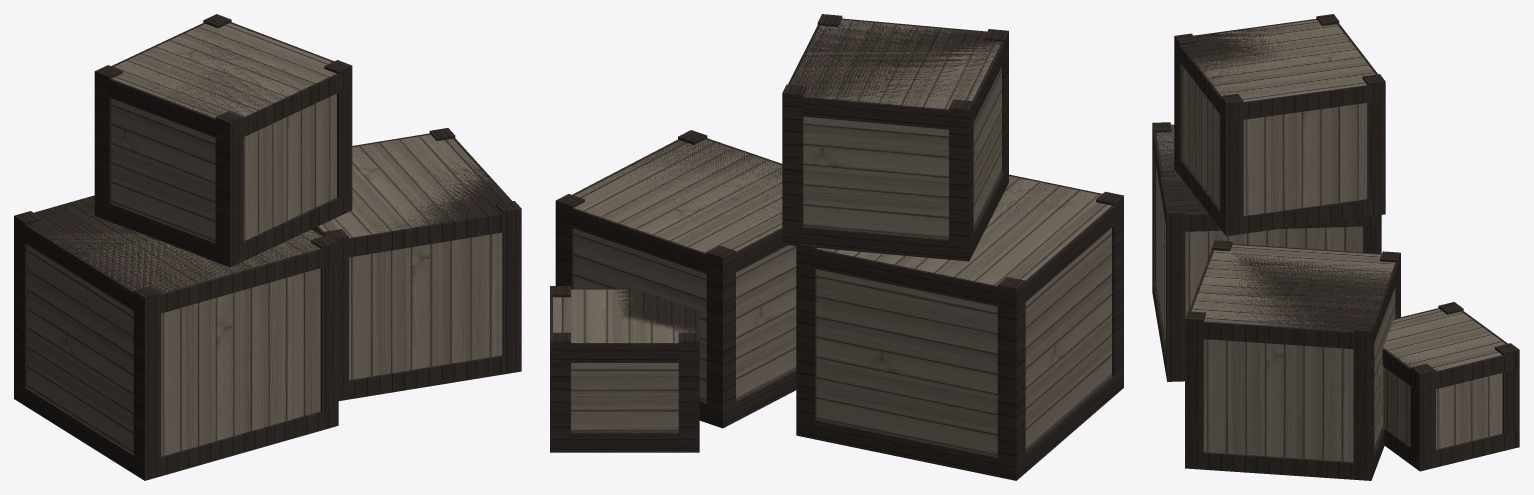
The model's file is crate_stack_01.glb.
The picture shows the model from 3 angles, left to right: view 1: azimuth 30°, elevation 25°; view 2: azimuth 150°, elevation 25°; view 3: azimuth 270°, elevation 25°; orthographic projection. The views are drawn at different scales.
Parts seen in each view (by area): view 1: crate_stack_01; view 2: crate_stack_01; view 3: crate_stack_01.
Boxes of the visible parts, x1,y1,x2,y2 form: crate_stack_01: (14, 14, 521, 480); crate_stack_01: (550, 14, 1123, 480); crate_stack_01: (1152, 14, 1519, 480).
Size of the model in its own units: 1.77 by 1.26 by 1.4.
2 materials, 2 textured.
